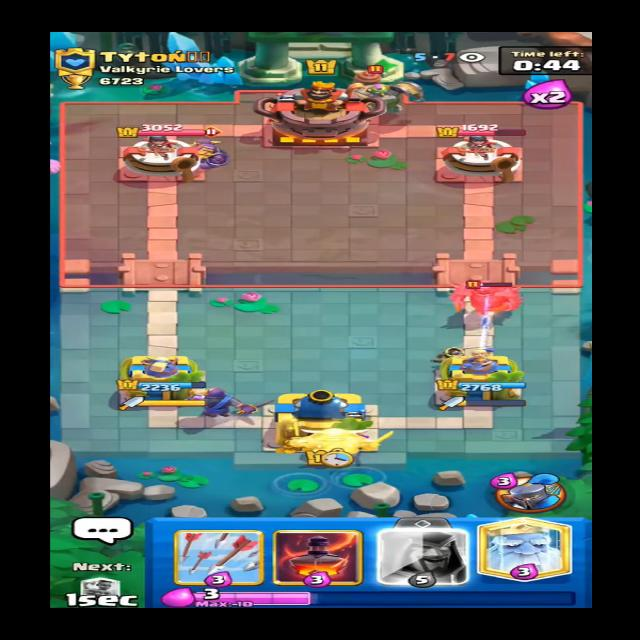evo-knight: (172, 125, 242, 168)
goblin-machine: (332, 69, 424, 118)
pekka: (448, 267, 527, 315)
